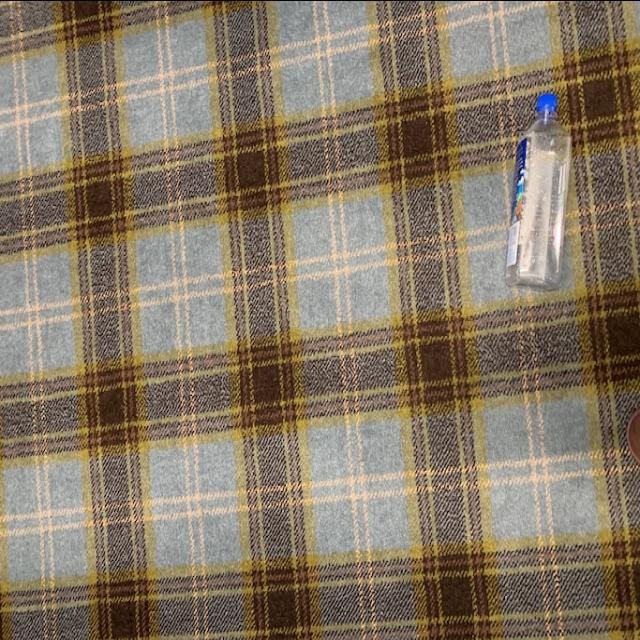PET: (505, 88, 576, 302)
